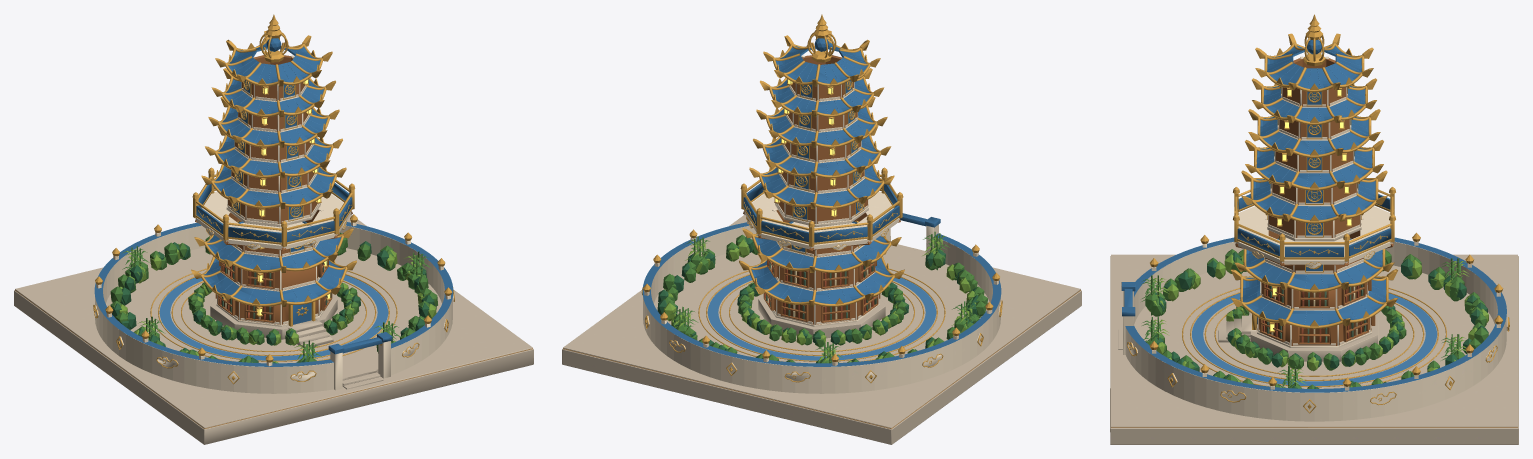
The model's file is city-5-lod0-9807de102ece.glb.
3 views of the same model, side by side, from view 1: azimuth 30°, elevation 25°; view 2: azimuth 150°, elevation 25°; view 3: azimuth 270°, elevation 25° (orthographic). The views are drawn at different scales.
Visible parts, largest first — view 1: SM_CT5_V4_Batch_0.002, SM_CT5_V4_Batch_77.002, SM_CT5_V4_Batch_73.002, SM_CT5_V4_Batch_78.002, SM_CT5_V4_Batch_68.002, SM_CT5_V4_Batch_82.002, SM_CT5_V4_Batch_5.002, SM_CT5_V4_Batch_81.002, SM_CT5_V4_Batch_83.002, SM_CT5_V4_Batch_1.002, SM_CT5_V4_Batch_9.002; view 2: SM_CT5_V4_Batch_0.002, SM_CT5_V4_Batch_77.002, SM_CT5_V4_Batch_73.002, SM_CT5_V4_Batch_78.002, SM_CT5_V4_Batch_68.002, SM_CT5_V4_Batch_82.002, SM_CT5_V4_Batch_5.002, SM_CT5_V4_Batch_83.002, SM_CT5_V4_Batch_81.002, SM_CT5_V4_Batch_9.002, SM_CT5_V4_Batch_1.002; view 3: SM_CT5_V4_Batch_0.002, SM_CT5_V4_Batch_73.002, SM_CT5_V4_Batch_77.002, SM_CT5_V4_Batch_78.002, SM_CT5_V4_Batch_68.002, SM_CT5_V4_Batch_82.002, SM_CT5_V4_Batch_5.002, SM_CT5_V4_Batch_81.002, SM_CT5_V4_Batch_83.002, SM_CT5_V4_Batch_9.002, SM_CT5_V4_Batch_11.002, SM_CT5_V4_Batch_12.002 (+1 smaller).
Part boxes in pixels (bbox=[...]): SM_CT5_V4_Batch_0.002: bbox=[14, 214, 533, 444]; SM_CT5_V4_Batch_77.002: bbox=[94, 38, 453, 366]; SM_CT5_V4_Batch_73.002: bbox=[94, 55, 453, 393]; SM_CT5_V4_Batch_78.002: bbox=[93, 14, 454, 384]; SM_CT5_V4_Batch_68.002: bbox=[195, 55, 352, 324]; SM_CT5_V4_Batch_82.002: bbox=[110, 233, 437, 363]; SM_CT5_V4_Batch_5.002: bbox=[159, 48, 388, 360]; SM_CT5_V4_Batch_81.002: bbox=[111, 232, 435, 363]; SM_CT5_V4_Batch_83.002: bbox=[119, 243, 436, 363]; SM_CT5_V4_Batch_1.002: bbox=[15, 290, 532, 429]; SM_CT5_V4_Batch_9.002: bbox=[221, 263, 321, 320]; SM_CT5_V4_Batch_0.002: bbox=[562, 214, 1081, 444]; SM_CT5_V4_Batch_77.002: bbox=[642, 38, 1001, 366]; SM_CT5_V4_Batch_73.002: bbox=[643, 55, 1001, 393]; SM_CT5_V4_Batch_78.002: bbox=[641, 14, 1002, 382]; SM_CT5_V4_Batch_68.002: bbox=[743, 55, 900, 324]; SM_CT5_V4_Batch_82.002: bbox=[661, 231, 987, 363]; SM_CT5_V4_Batch_5.002: bbox=[707, 48, 936, 360]; SM_CT5_V4_Batch_83.002: bbox=[663, 238, 975, 362]; SM_CT5_V4_Batch_81.002: bbox=[657, 237, 978, 363]; SM_CT5_V4_Batch_9.002: bbox=[774, 263, 874, 320]; SM_CT5_V4_Batch_1.002: bbox=[563, 290, 1080, 429]; SM_CT5_V4_Batch_0.002: bbox=[1110, 254, 1518, 444]; SM_CT5_V4_Batch_73.002: bbox=[1123, 56, 1507, 421]; SM_CT5_V4_Batch_77.002: bbox=[1121, 40, 1506, 392]; SM_CT5_V4_Batch_78.002: bbox=[1127, 14, 1509, 413]; SM_CT5_V4_Batch_68.002: bbox=[1235, 58, 1393, 345]; SM_CT5_V4_Batch_82.002: bbox=[1141, 249, 1488, 388]; SM_CT5_V4_Batch_5.002: bbox=[1192, 51, 1436, 385]; SM_CT5_V4_Batch_81.002: bbox=[1152, 252, 1488, 388]; SM_CT5_V4_Batch_83.002: bbox=[1147, 254, 1488, 387]; SM_CT5_V4_Batch_9.002: bbox=[1265, 282, 1371, 342]; SM_CT5_V4_Batch_11.002: bbox=[1262, 284, 1361, 342]; SM_CT5_V4_Batch_12.002: bbox=[1267, 284, 1366, 342].
Size of the model in its own units: 10 by 9.31 by 10.
Materials: 15 (4 with a texture image).
